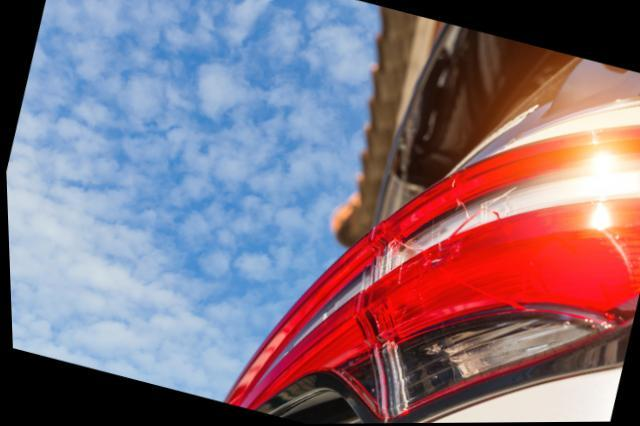lamp broken: (355, 124, 640, 422)
